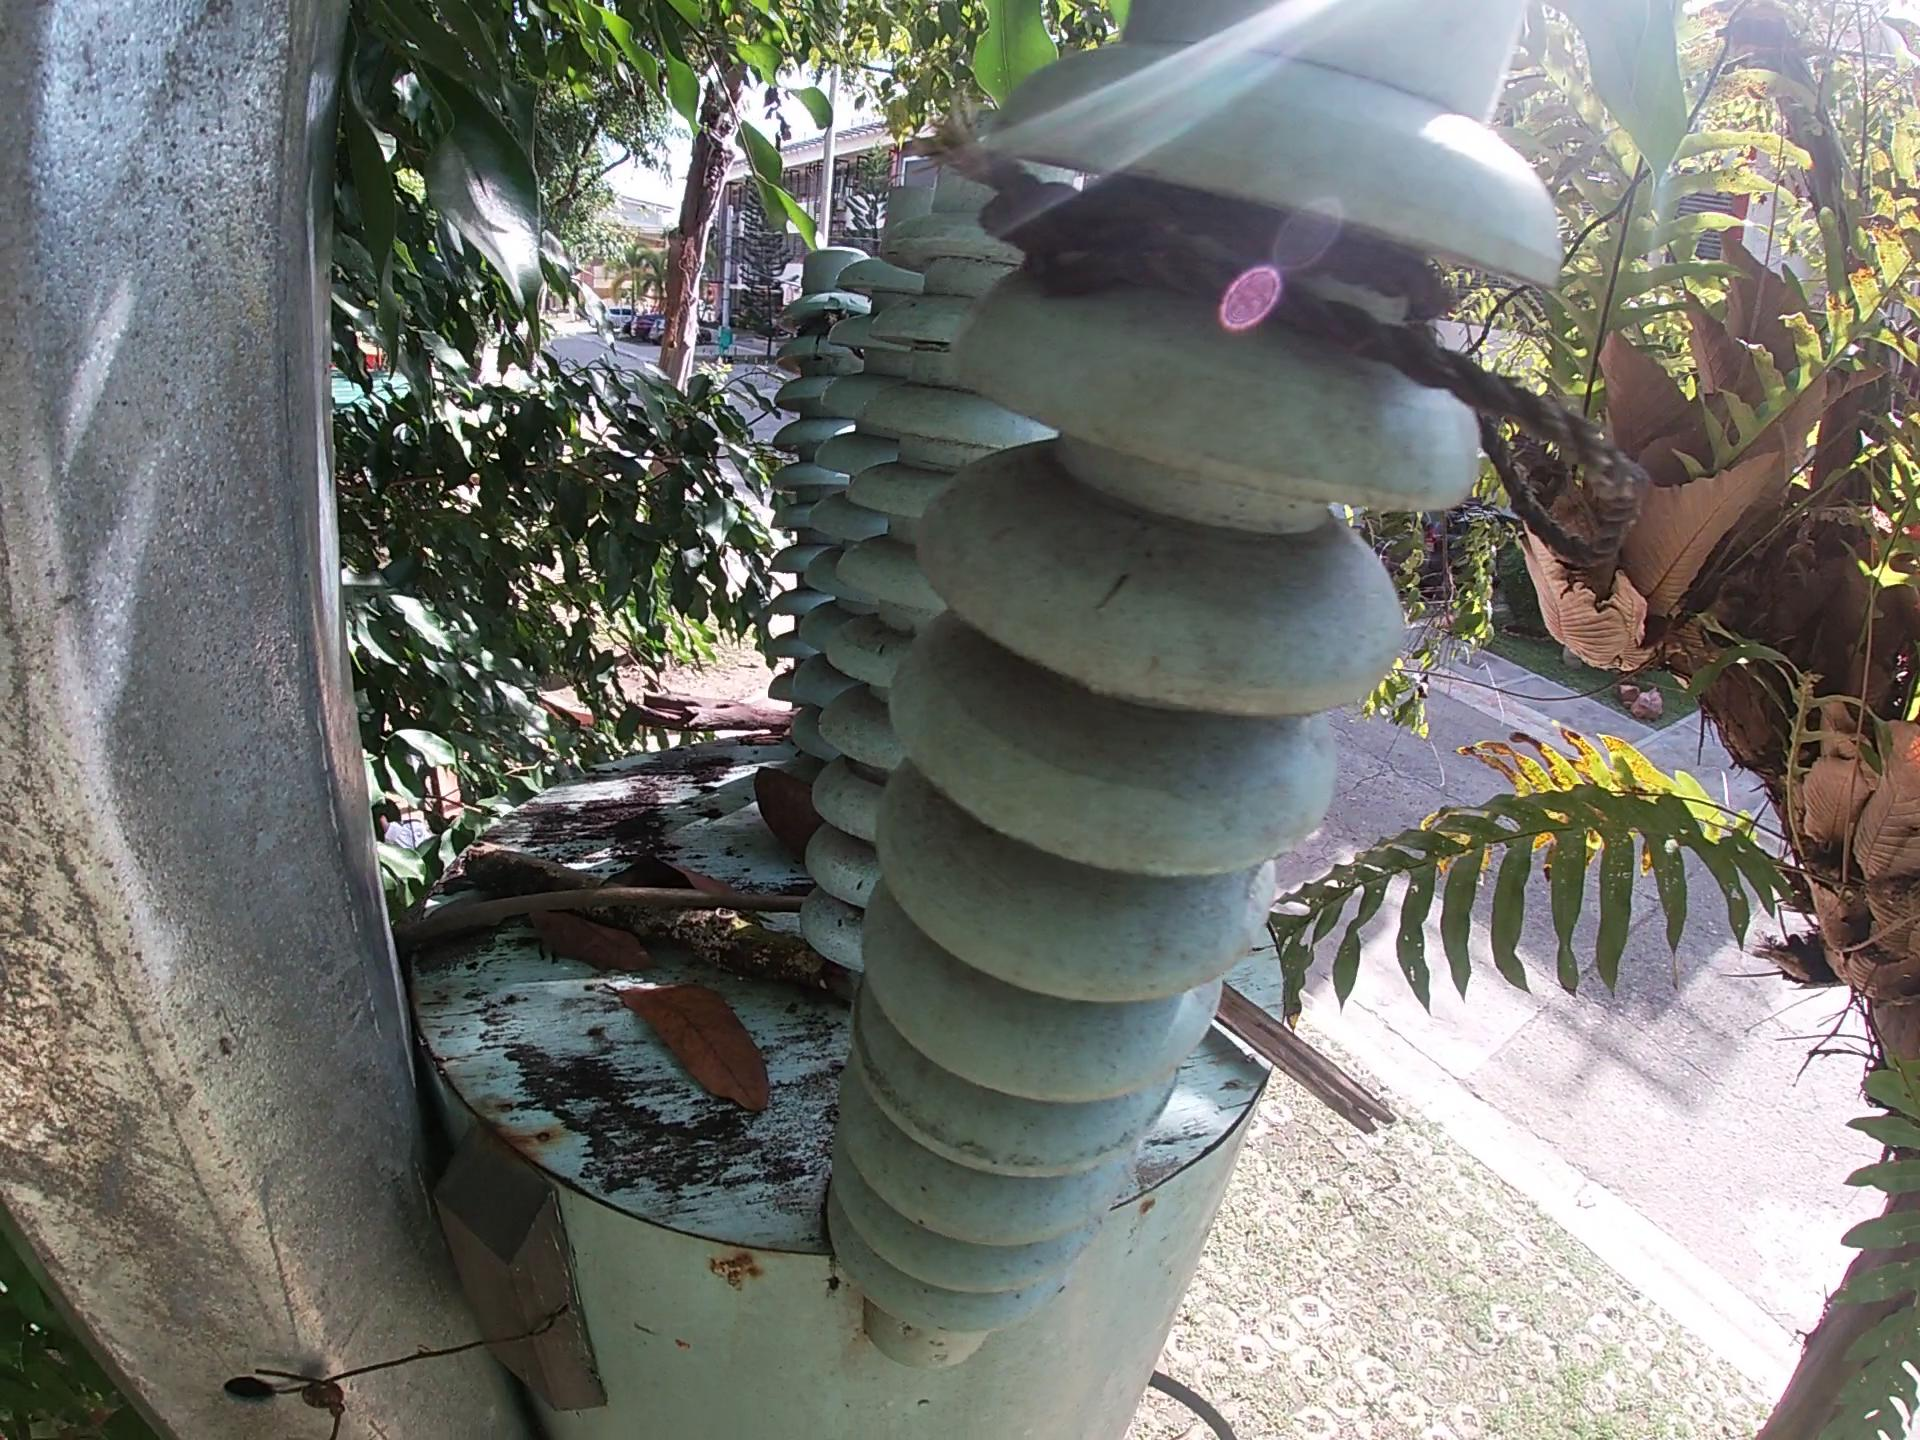leaf: (602, 974, 779, 1121), (525, 911, 652, 973), (599, 858, 735, 891)
mahogany fruit: (751, 761, 827, 867)
tree branch: (460, 846, 827, 995), (1209, 979, 1398, 1147), (399, 886, 818, 954), (632, 684, 806, 746)
